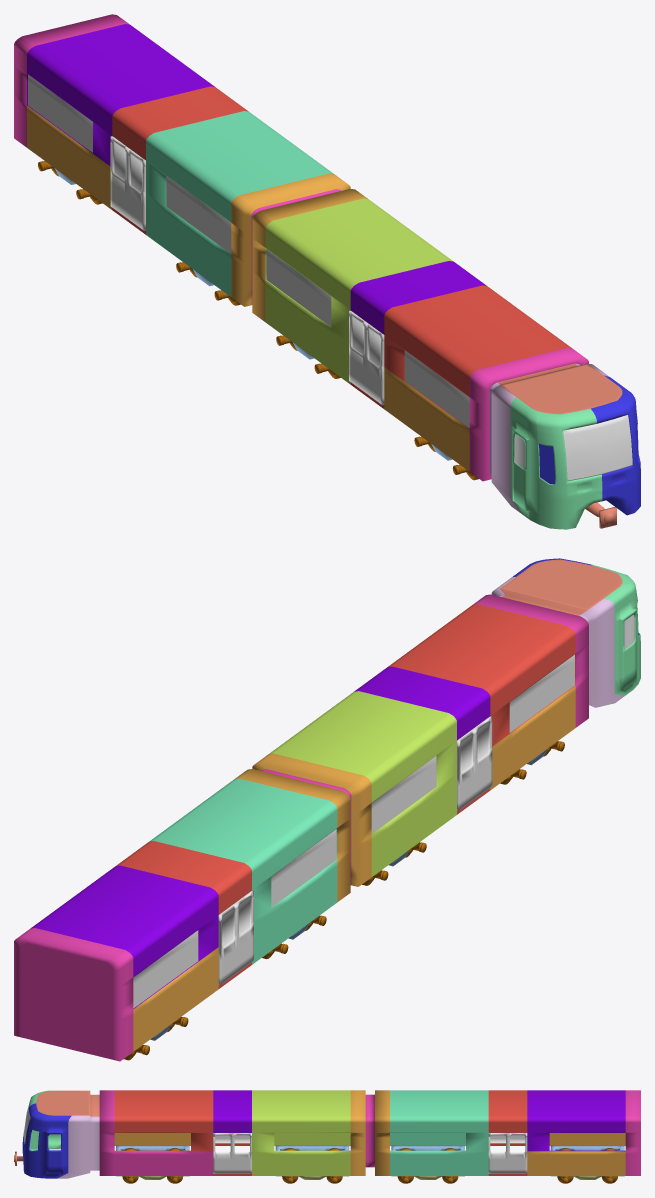
Rendered from S_ExteriorWagon_low.fbx.
3 renders of one model, top to bottom at view 1: azimuth 30°, elevation 25°; view 2: azimuth 150°, elevation 25°; view 3: azimuth 270°, elevation 25°, orthographic. The views are drawn at different scales.
Parts seen in each view (by area): view 1: Shell_low, Cabin_low, NS_Windows, Doors_low, Wheels_low; view 2: Shell_low, NS_Windows, Cabin_low, Doors_low, Wheels_low; view 3: Shell_low, Cabin_low, Wheels_low, Doors_low.
Part boxes in pixels (box(x1,y1,x2,y2)): Shell_low: box(14, 14, 588, 481); Cabin_low: box(490, 363, 640, 529); NS_Windows: box(28, 74, 632, 480); Doors_low: box(110, 136, 384, 405); Wheels_low: box(38, 161, 478, 480); Shell_low: box(14, 594, 588, 1061); NS_Windows: box(133, 615, 634, 1008); Cabin_low: box(491, 558, 640, 707); Doors_low: box(218, 716, 492, 985); Wheels_low: box(123, 741, 564, 1060); Shell_low: box(99, 1090, 640, 1175); Cabin_low: box(14, 1090, 99, 1178); Wheels_low: box(116, 1145, 624, 1183); Doors_low: box(213, 1133, 527, 1173).
Bounding box in the file's own units: 3.57 × 3.77 × 30.56.
